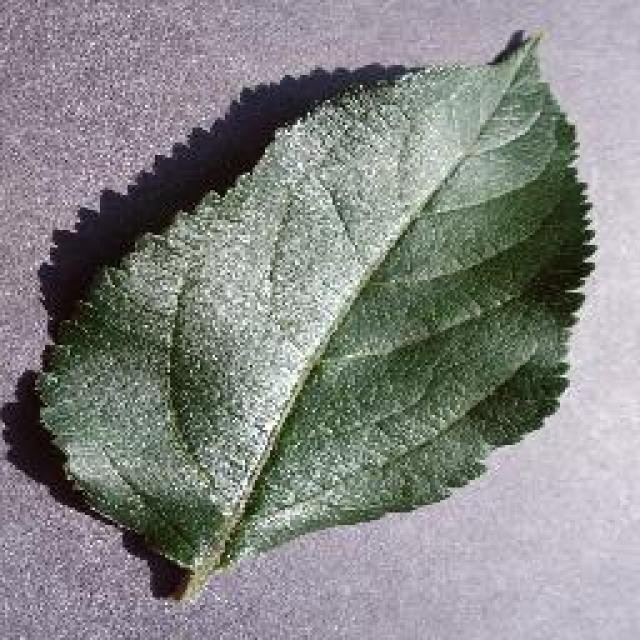apple healthy: (30, 25, 598, 600)
